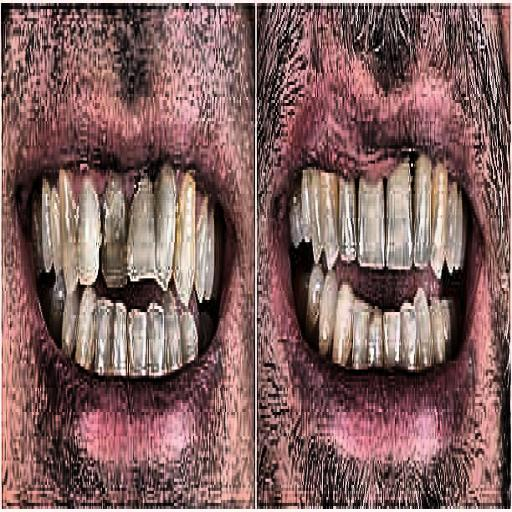Calculus: (23, 107, 230, 391), (295, 122, 512, 270), (310, 270, 466, 399)
